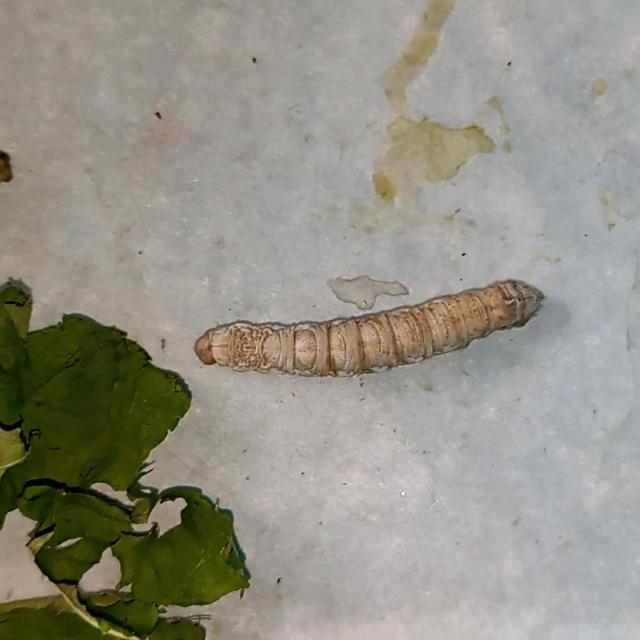Grasserie: (187, 264, 549, 391)
